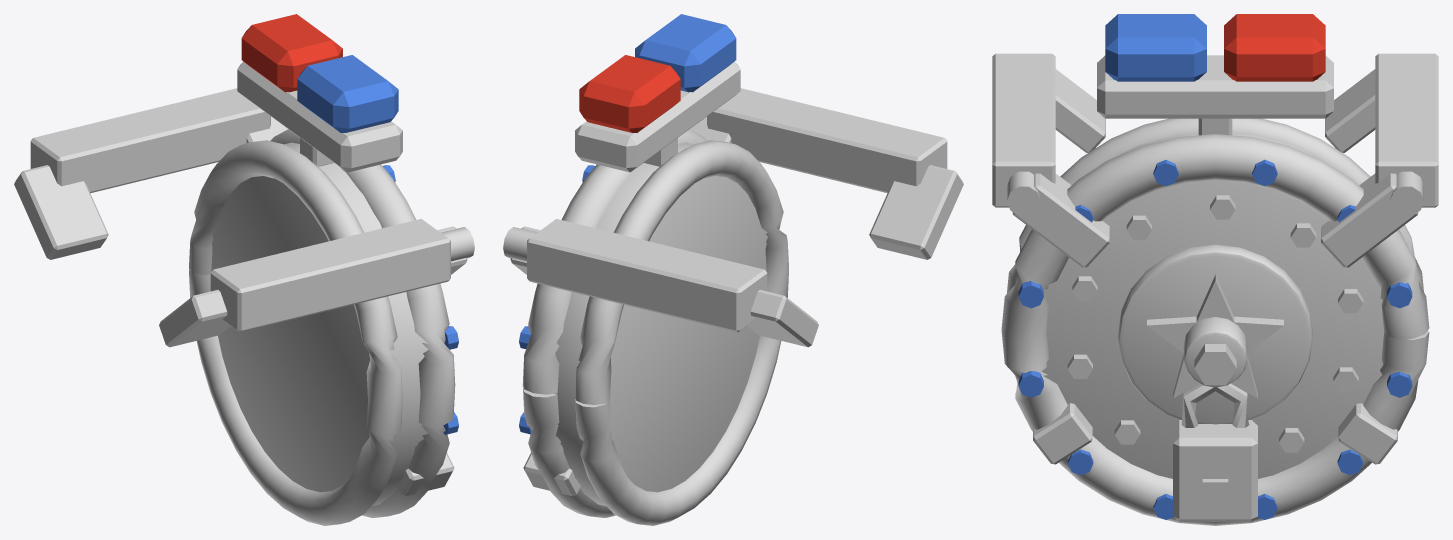
The model's file is wheel_clamp.glb.
3 renders of one model, left to right at view 1: azimuth 30°, elevation 25°; view 2: azimuth 150°, elevation 25°; view 3: azimuth 270°, elevation 25°, orthographic. The views are drawn at different scales.
Parts seen in each view (by area): view 1: clamp, lamp_blue, lamp_red; view 2: clamp, lamp_red, lamp_blue; view 3: clamp, lamp_blue, lamp_red.
Boxes of the visible parts, <box> form: clamp: <box>14,61,474,525</box>; lamp_blue: <box>297,55,398,132</box>; lamp_red: <box>241,14,342,92</box>; clamp: <box>503,61,963,525</box>; lamp_red: <box>579,55,680,132</box>; lamp_blue: <box>635,14,736,92</box>; clamp: <box>992,53,1438,525</box>; lamp_blue: <box>1105,14,1206,81</box>; lamp_red: <box>1224,14,1325,81</box>.
Bounding box in the file's own units: 0.905 × 1.26 × 1.05.
